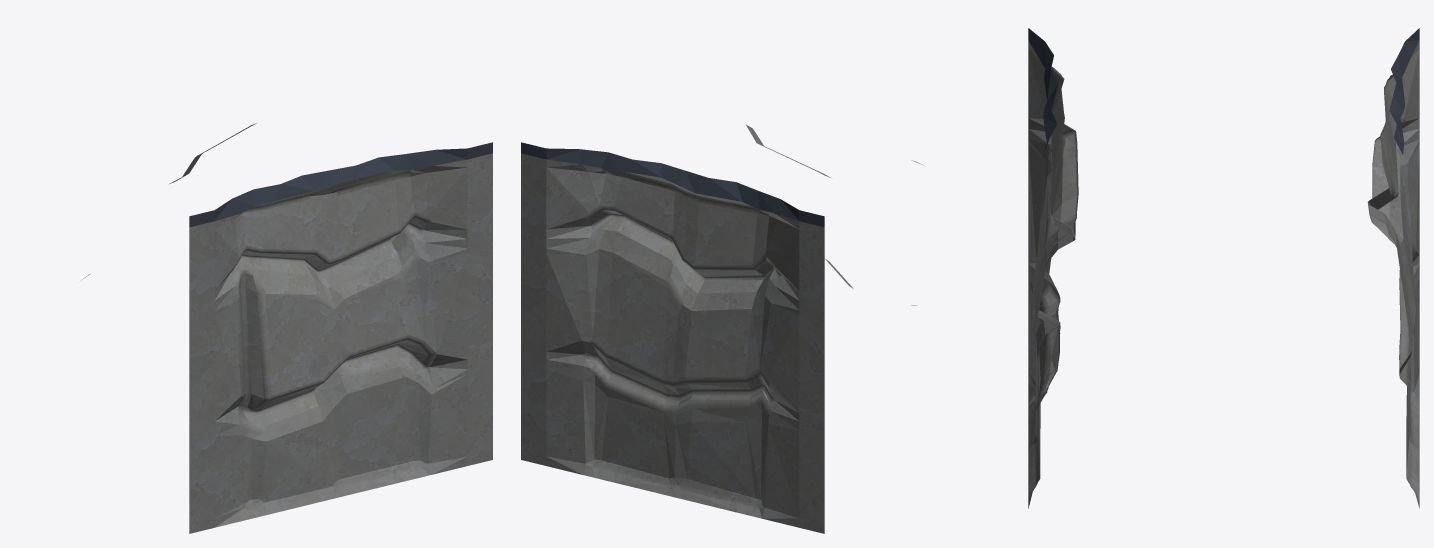
File: cliff_wall_strip_a.glb
The picture shows the model from 3 angles, left to right: view 1: azimuth 30°, elevation 25°; view 2: azimuth 150°, elevation 25°; view 3: azimuth 270°, elevation 25°; orthographic projection. The views are drawn at different scales.
Visible parts, largest first — view 1: CliffWall_strip_a_Body.001; view 2: CliffWall_strip_a_Body.001; view 3: CliffWall_strip_a_Body.001.
Boxes of the visible parts, x1,y1,x2,y2 form: CliffWall_strip_a_Body.001: (81, 123, 492, 533); CliffWall_strip_a_Body.001: (521, 124, 924, 533); CliffWall_strip_a_Body.001: (1028, 28, 1419, 508).
Bounding box in the file's own units: 1 × 1 × 1.
5 materials, 2 textured.
